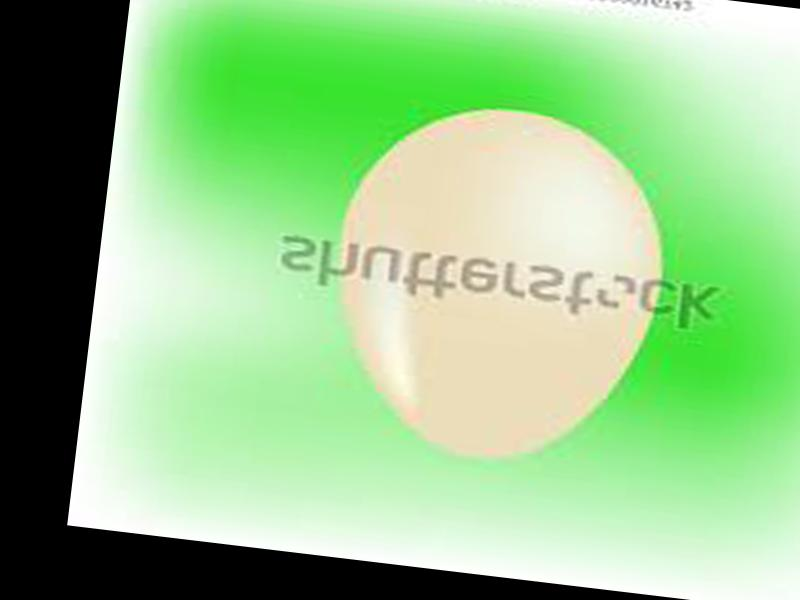Eggs: (318, 93, 679, 476)
